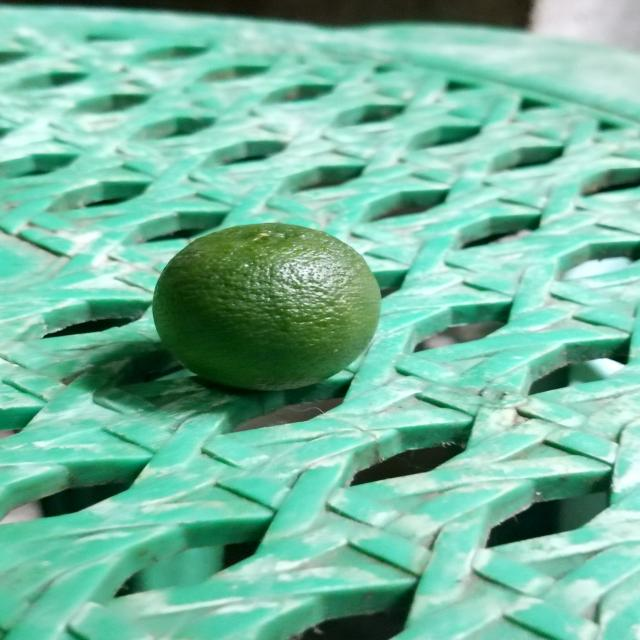heathy: (151, 223, 383, 395)
